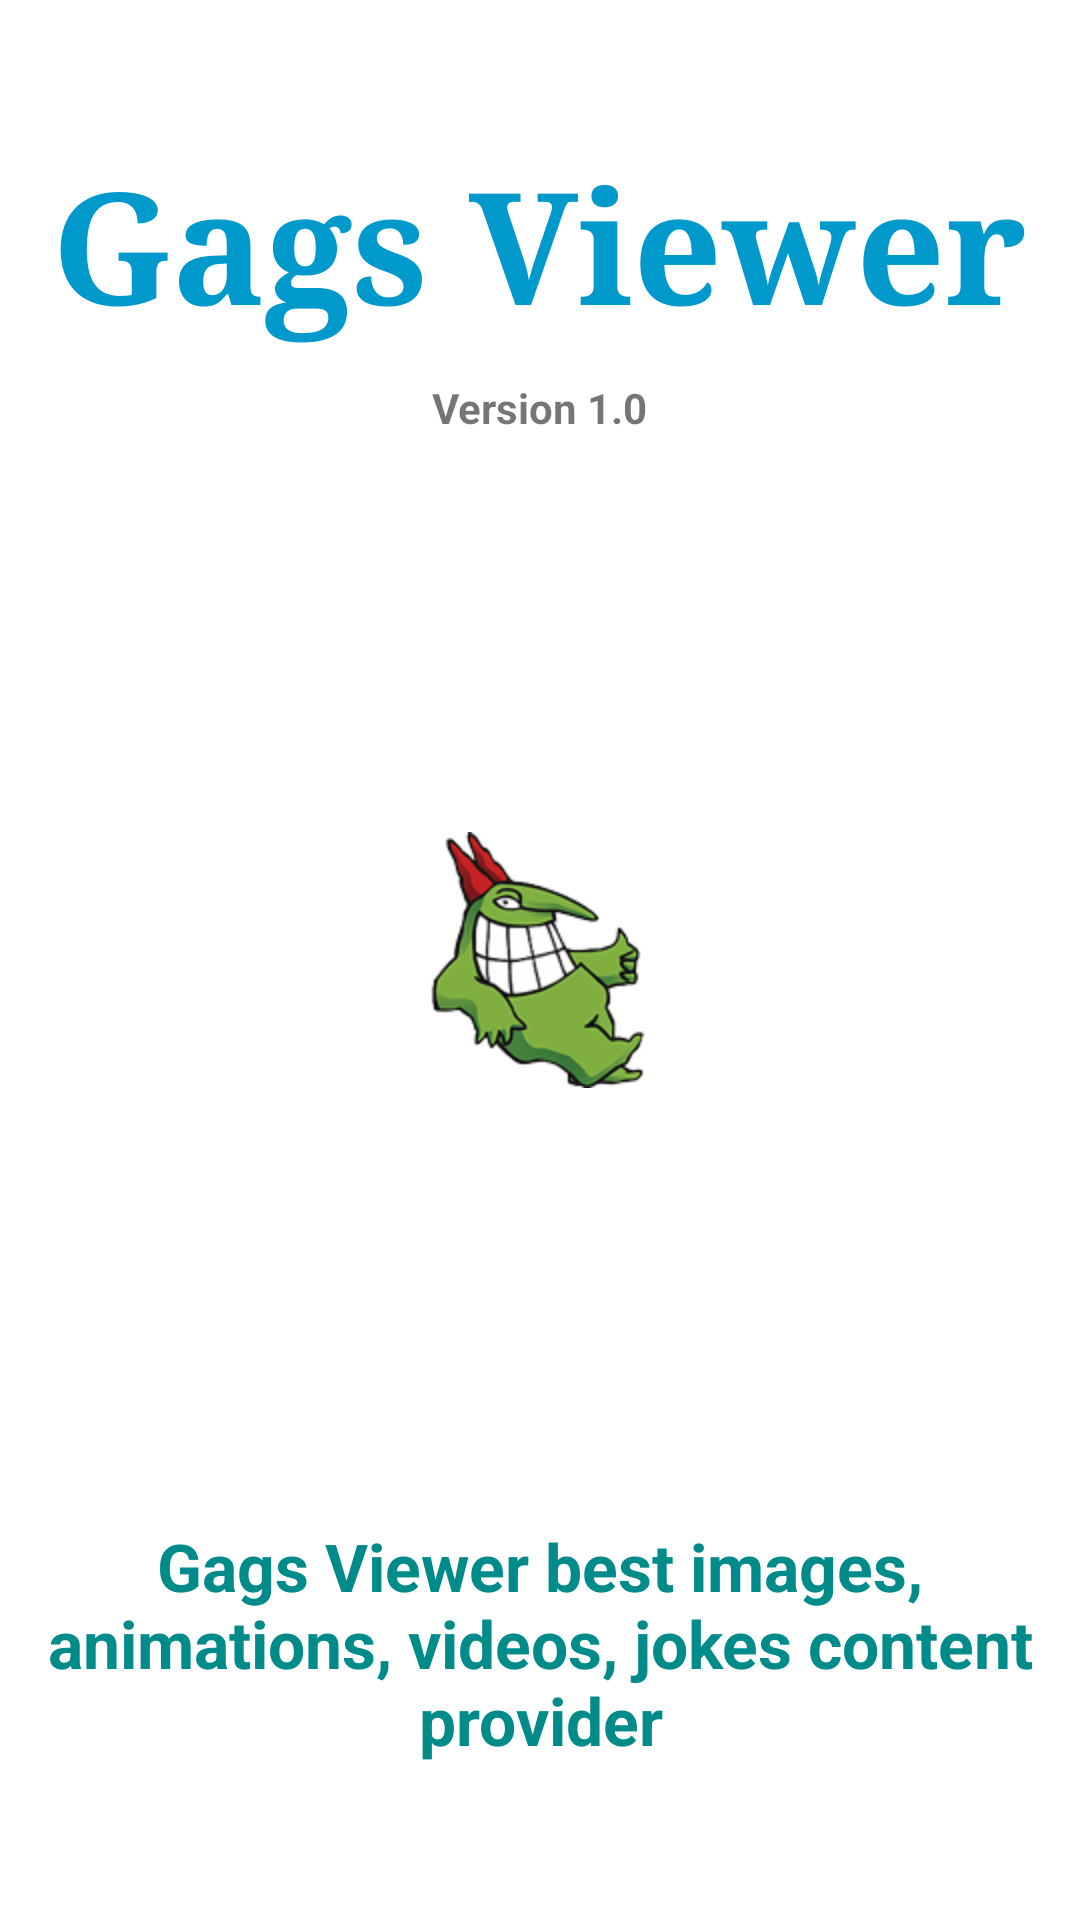

Screen size 1080*1920. Icon name, then its center in pixels as (x=x, y=y):
Gags Viewer: (x=538, y=960)
